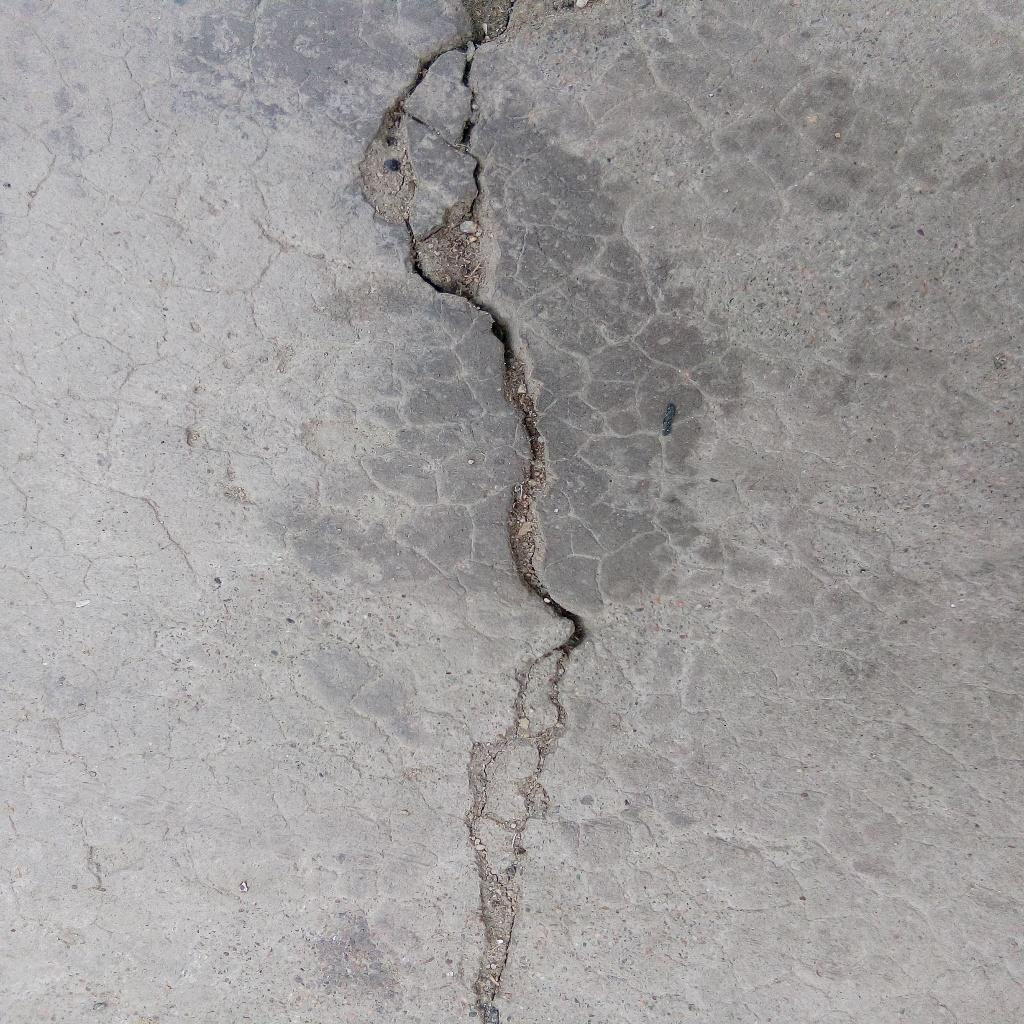Crack: (358, 1, 588, 1024)
